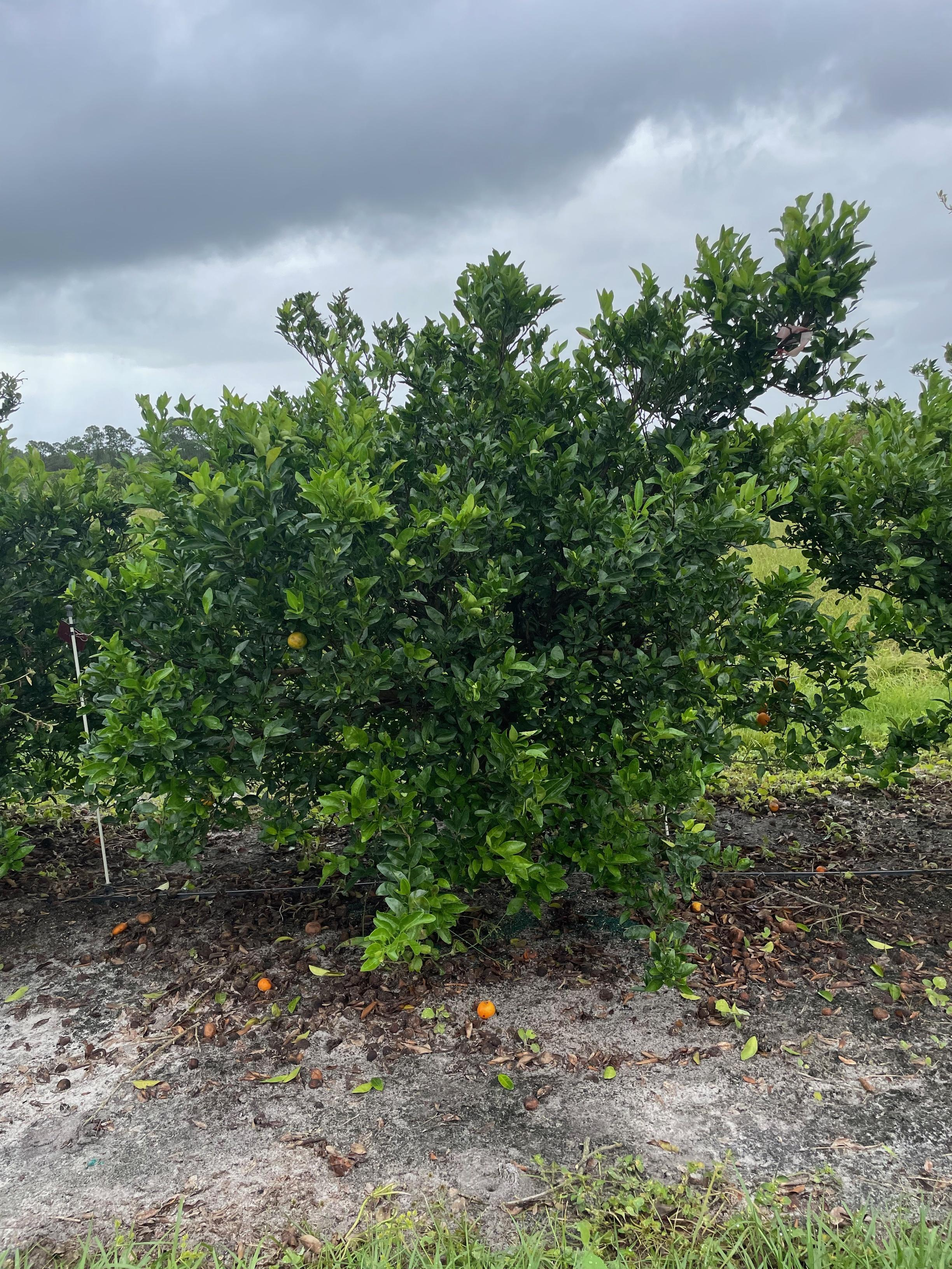fruit_on_ground: (286, 629, 309, 652), (771, 674, 790, 693), (755, 711, 772, 727), (754, 700, 770, 714)
fruit_on_tree: (475, 998, 498, 1021), (302, 918, 324, 937), (777, 916, 798, 935), (726, 926, 746, 944), (870, 1005, 891, 1022), (522, 1094, 541, 1112), (255, 975, 273, 993), (521, 946, 541, 962), (202, 1019, 218, 1038), (135, 909, 153, 924), (111, 920, 129, 935), (766, 797, 782, 813), (690, 898, 705, 914), (364, 1047, 379, 1062), (186, 1055, 200, 1069), (743, 877, 757, 890), (813, 862, 828, 874)
